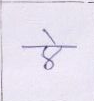e_matra: (43, 29, 59, 45)
